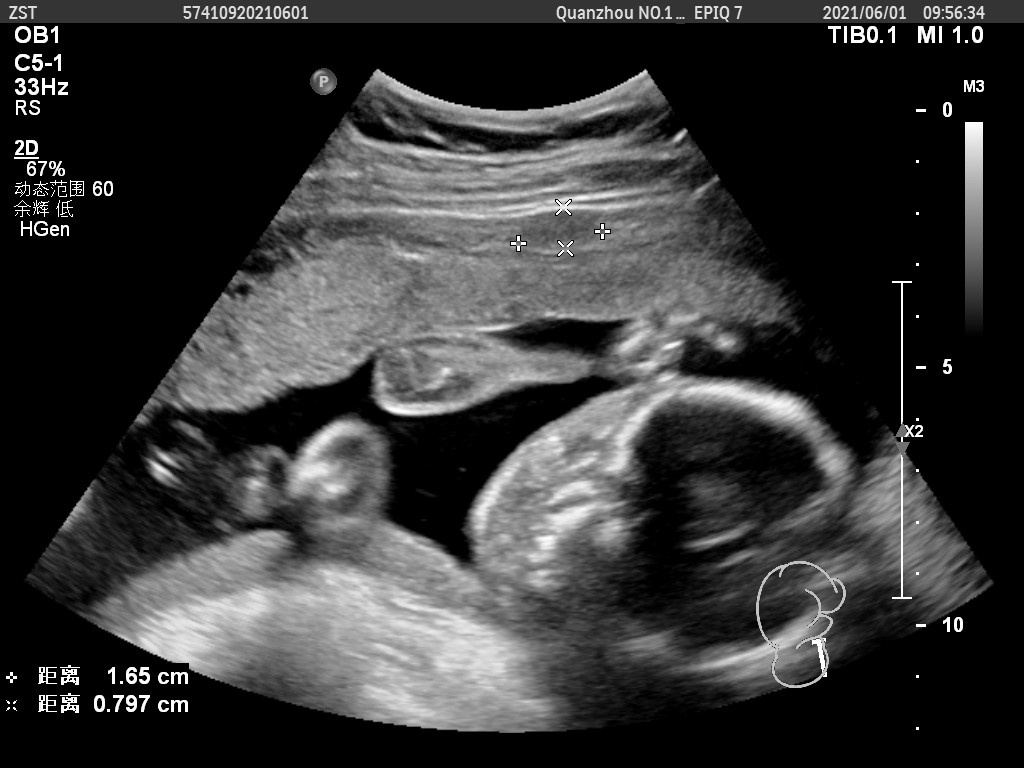肌瘤: (515, 204, 607, 246)
